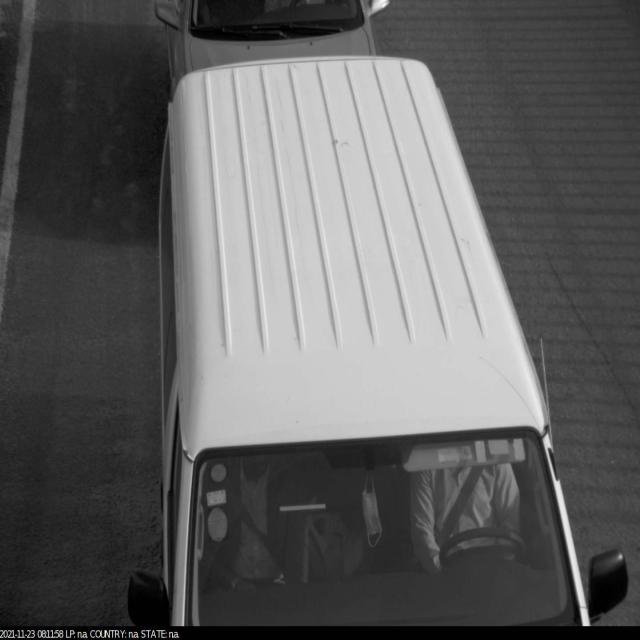windshield: (170, 423, 579, 627)
